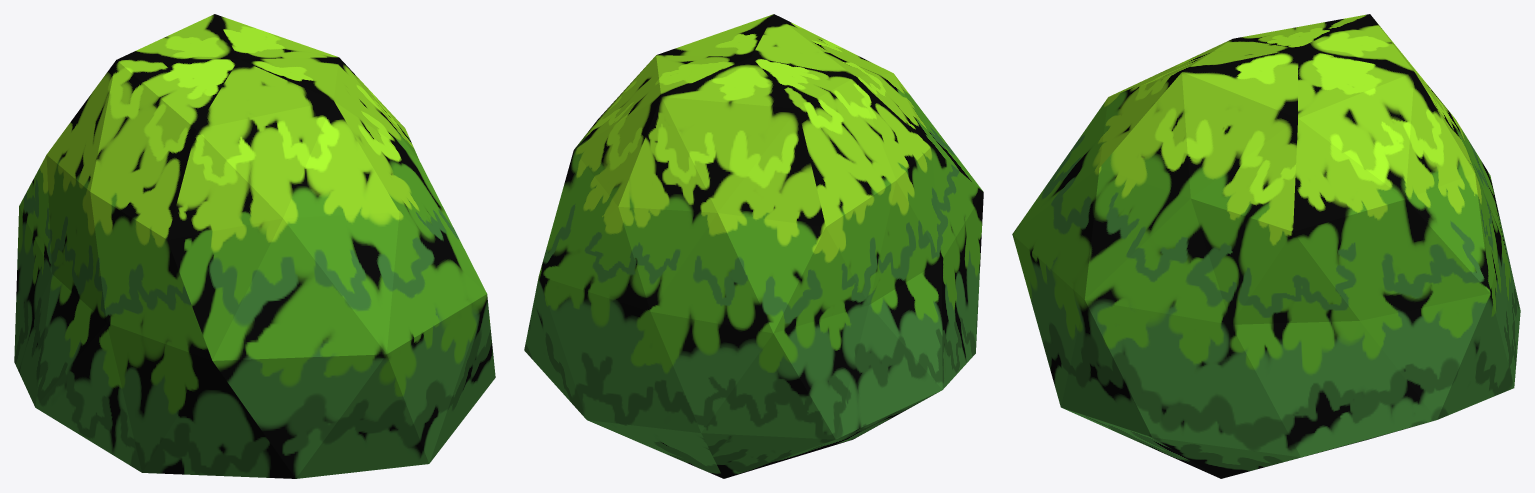
The model's file is bush1.glb.
3 renders of one model, left to right at view 1: azimuth 30°, elevation 25°; view 2: azimuth 150°, elevation 25°; view 3: azimuth 270°, elevation 25°, orthographic. The views are drawn at different scales.
Parts seen in each view (by area): view 1: Icosphere; view 2: Icosphere; view 3: Icosphere.
Boxes of the visible parts, left/top/right/bottom form: Icosphere: left=14, top=14, right=495, bottom=478; Icosphere: left=524, top=14, right=983, bottom=478; Icosphere: left=1012, top=14, right=1520, bottom=478.
Bounding box in the file's own units: 1.96 × 1.82 × 2.18.
Materials: 1 (1 with a texture image).
